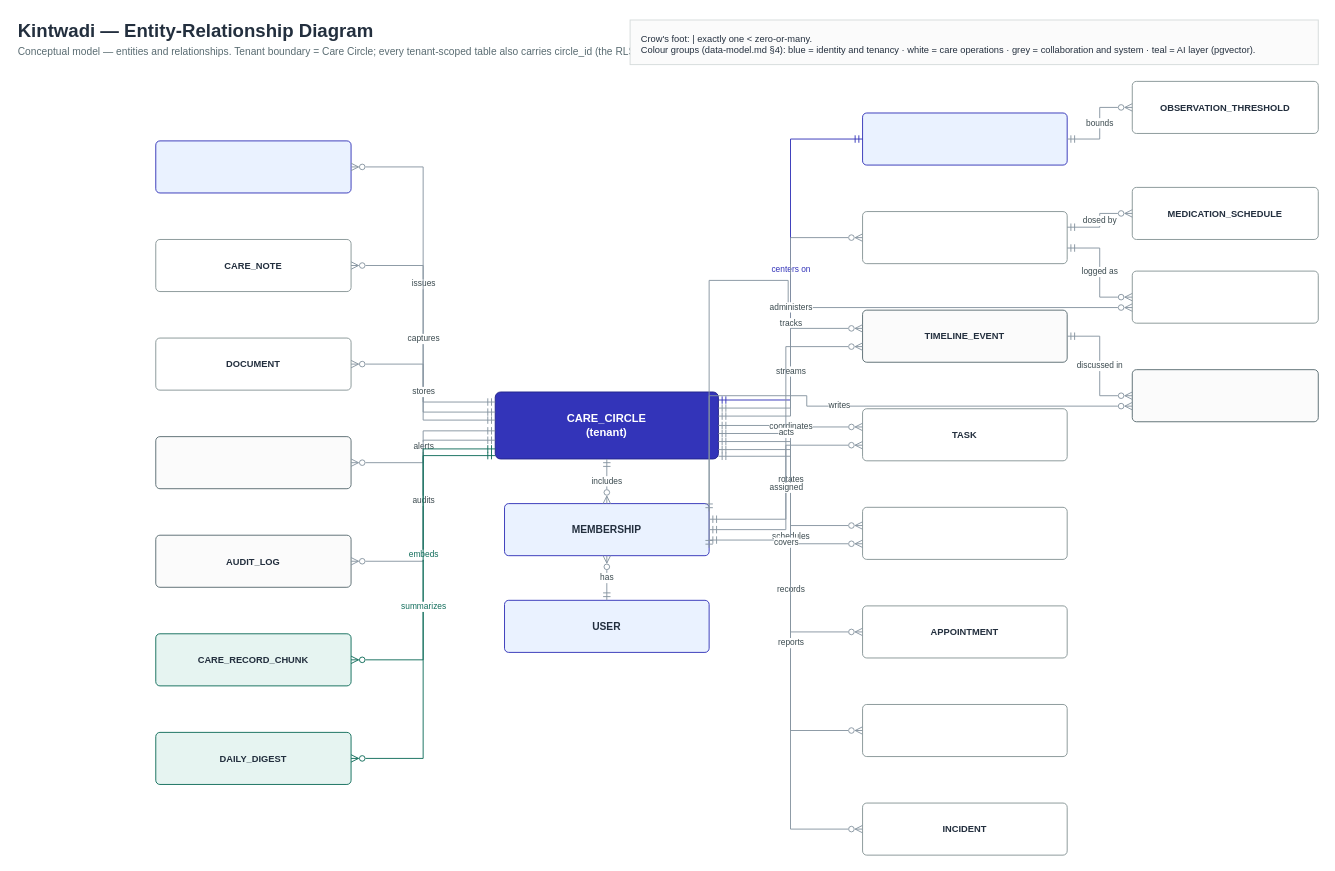
Image size: 1335x871. Some labels were removed from this diagram. The shapes that lost their labels are listed below. From the top down, each one's box as (x1, y1, x2, y2) in pixels, then its label:
(862, 112, 1067, 165): CARE_RECIPIENT_PROFILE
(155, 140, 351, 193): INVITATION
(862, 211, 1067, 264): MEDICATION
(1131, 270, 1318, 323): MEDICATION_ADMINISTRATION
(1131, 369, 1318, 422): COMMENT
(155, 436, 351, 489): NOTIFICATION
(862, 506, 1067, 559): CARE_SHIFT
(862, 704, 1067, 757): OBSERVATION
